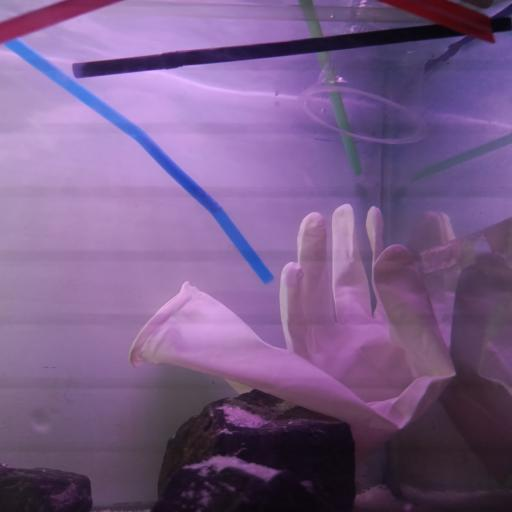glove: (127, 202, 458, 471)
plastic_cup: (298, 0, 428, 146)
plastic_straw: (2, 36, 274, 287), (73, 13, 512, 81), (298, 1, 362, 179), (116, 4, 430, 24), (0, 0, 117, 43)
